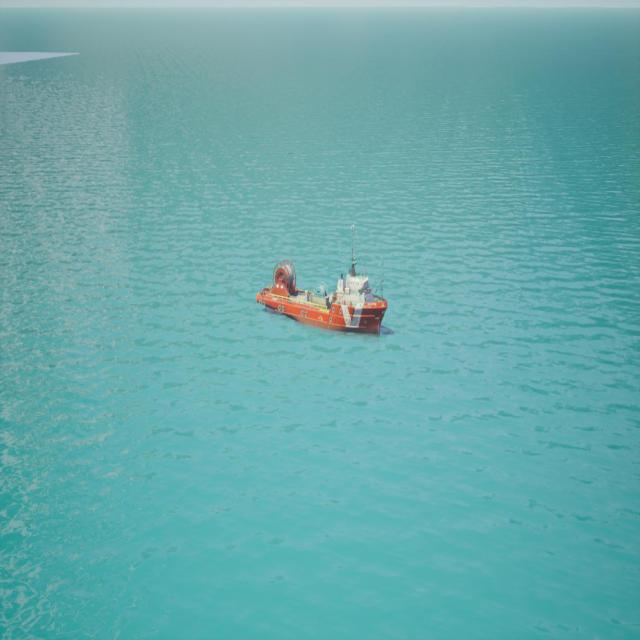tug boat: (256, 225, 392, 341)
